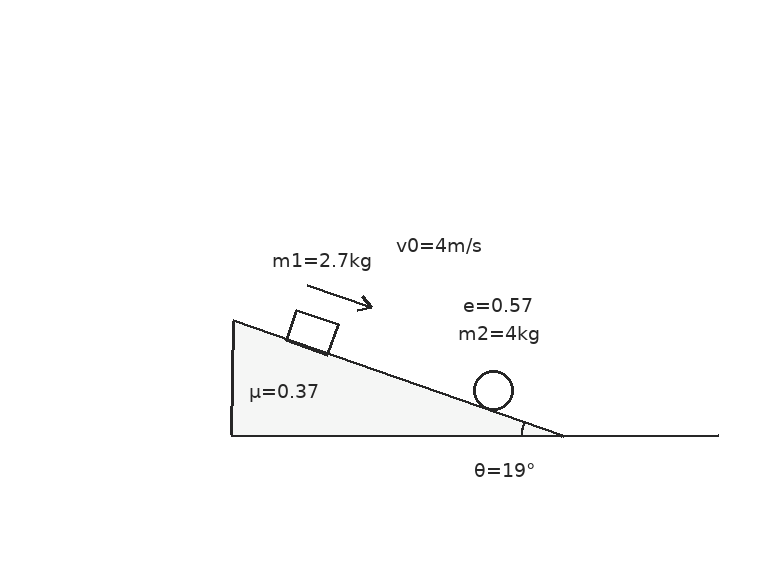ball: (471, 368, 515, 412)
block: (284, 307, 340, 356)
ramp: (230, 319, 564, 437)
